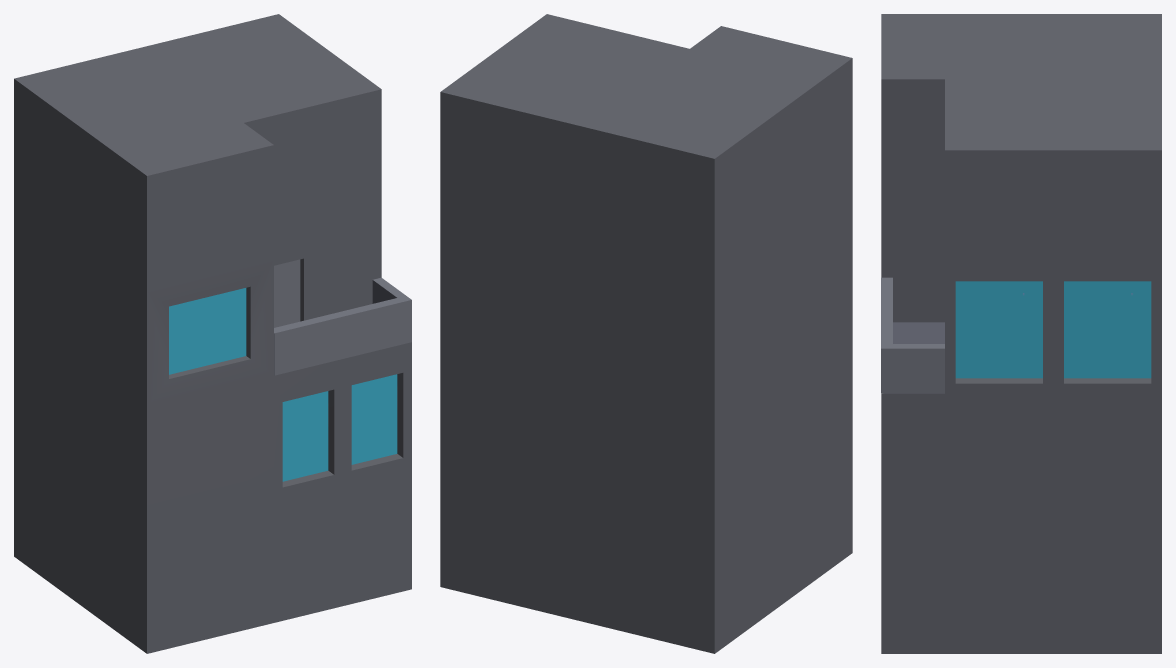
The model's file is build_materials.gltf.
3 renders of one model, left to right at view 1: azimuth 30°, elevation 25°; view 2: azimuth 150°, elevation 25°; view 3: azimuth 270°, elevation 25°, orthographic. The views are drawn at different scales.
Parts seen in each view (by area): view 1: bill_1; view 2: bill_1; view 3: bill_1.
Part boxes in pixels (left/top/right/bottom): bill_1: left=14, top=14, right=411, bottom=653; bill_1: left=440, top=14, right=852, bottom=653; bill_1: left=881, top=14, right=1161, bottom=653.
Size of the model in its own units: 1.83 by 3.15 by 1.59.
1 material, 1 textured.
